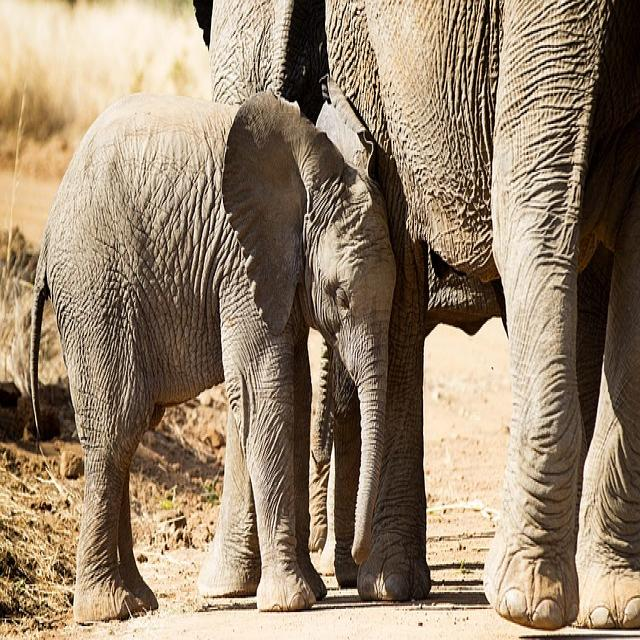elephant: (325, 2, 640, 627), (31, 95, 395, 622), (262, 6, 290, 77)
